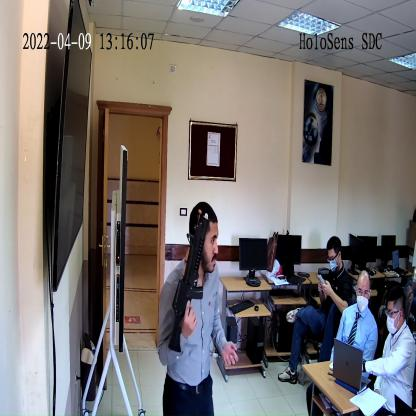handgun: (168, 218, 209, 356)
